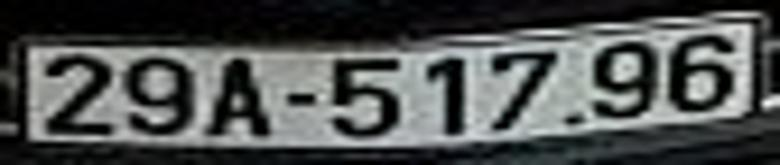-: (286, 89, 314, 106)
.: (560, 114, 584, 129)
1: (421, 58, 467, 137)
2: (46, 54, 113, 136)
5: (331, 59, 398, 139)
6: (669, 30, 735, 113)
7: (492, 50, 557, 137)
9: (124, 57, 194, 136), (591, 43, 656, 118)
A: (206, 59, 272, 141)
